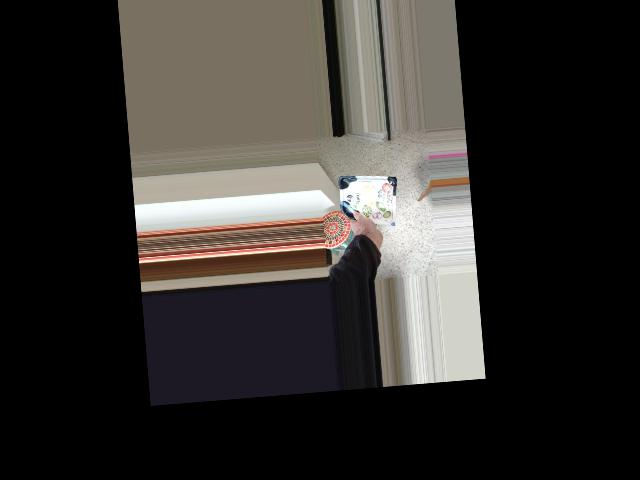cheese: (339, 183, 401, 247)
